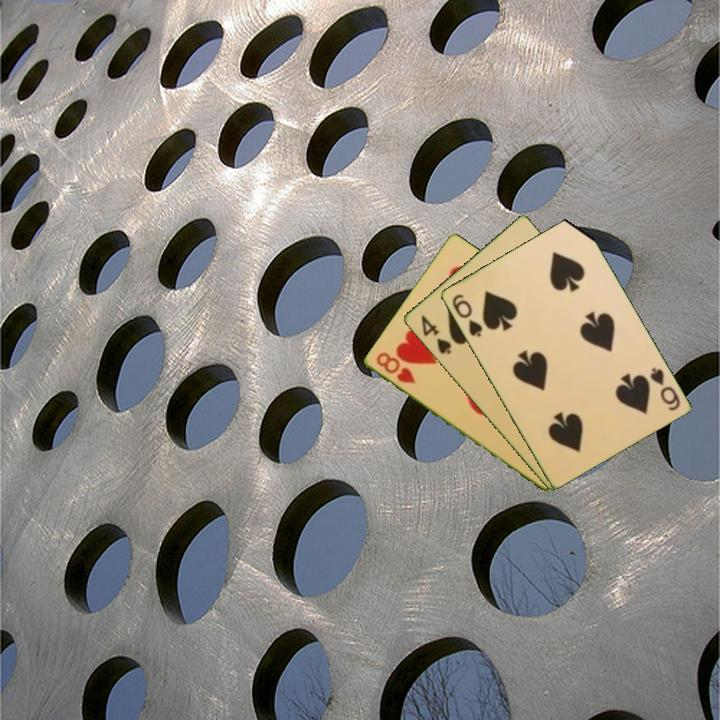4s: (417, 311, 454, 357)
6s: (646, 363, 683, 414), (448, 290, 485, 340)
8h: (372, 349, 418, 387)
